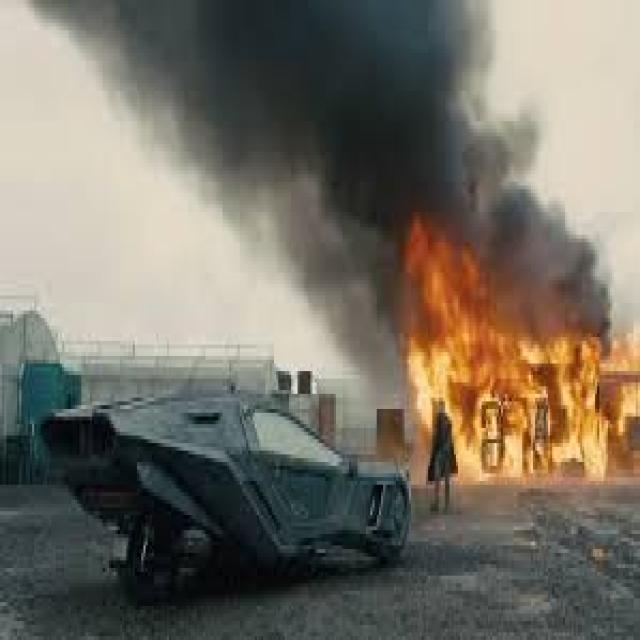Fire: (404, 215, 640, 479)
Smoke: (28, 2, 562, 215), (238, 215, 404, 394)
